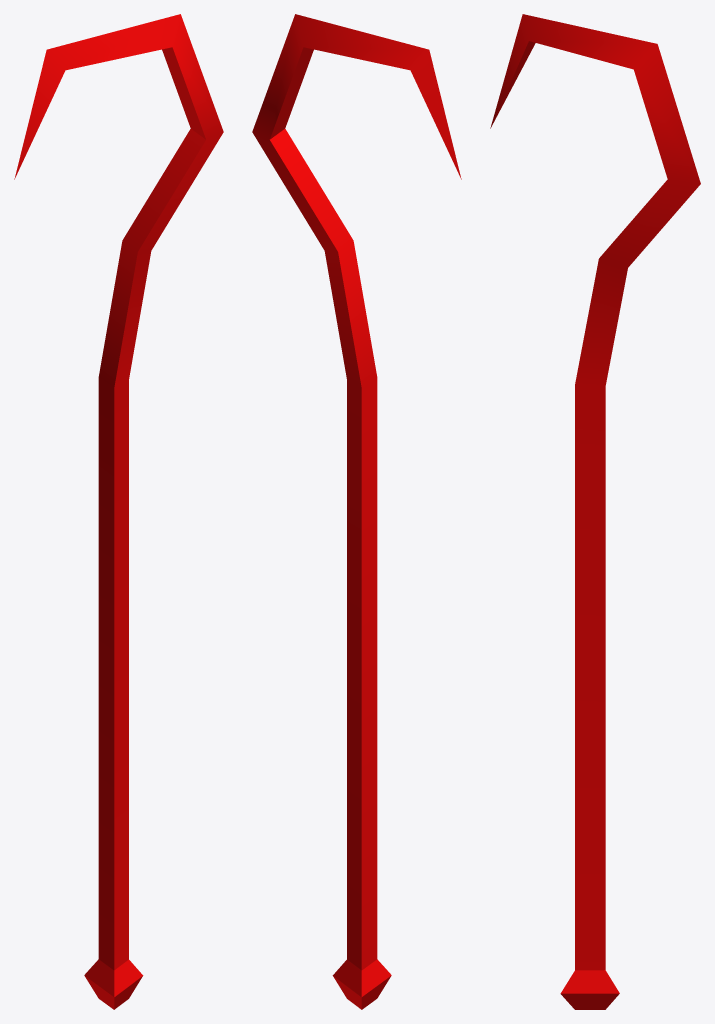
The model's file is SM_Hook.fbx.
The picture shows the model from 3 angles, left to right: view 1: azimuth 30°, elevation 25°; view 2: azimuth 150°, elevation 25°; view 3: azimuth 330°, elevation 25°; orthographic projection.
Parts seen in each view (by area): view 1: HOOK; view 2: HOOK; view 3: HOOK.
Part boxes in pixels (x1,y1,x2,y2): HOOK: (14, 14, 223, 1009); HOOK: (252, 14, 461, 1009); HOOK: (490, 14, 700, 1009).
Size of the model in its own units: 23.27 by 5.81 by 103.
